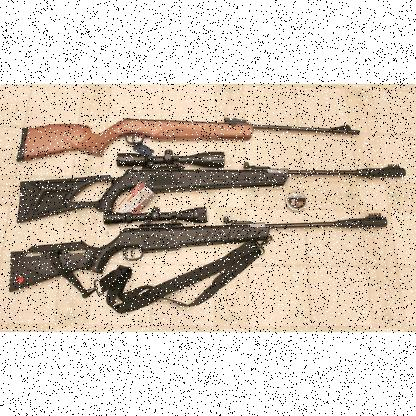gun: (6, 214, 394, 294), (11, 160, 411, 222), (14, 113, 366, 161)
